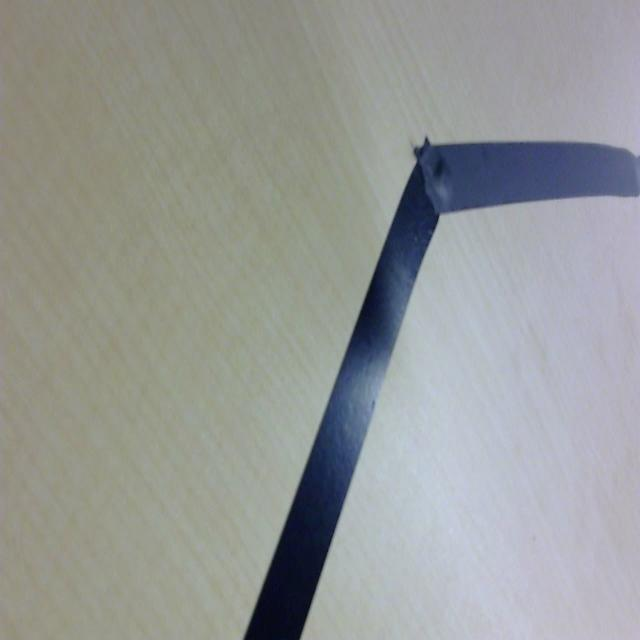tape: (221, 124, 640, 640)
